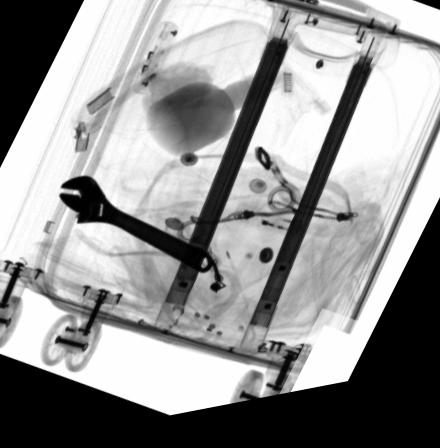Wrench: (58, 178, 212, 282)
